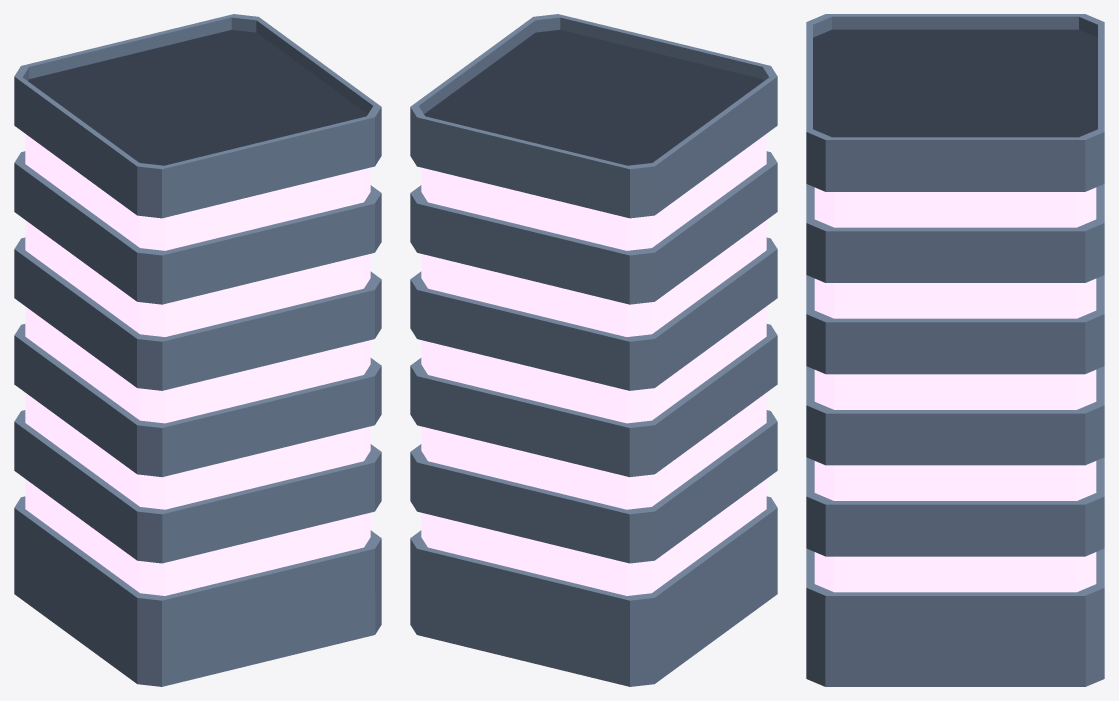
Rendered from building.glb.
3 views of the same model, side by side, from view 1: azimuth 30°, elevation 25°; view 2: azimuth 150°, elevation 25°; view 3: azimuth 270°, elevation 25° (orthographic). The views are drawn at different scales.
Parts seen in each view (by area): view 1: Plane; view 2: Plane; view 3: Plane.
Part boxes in pixels (left/top/right/bottom): Plane: left=14, top=14, right=381, bottom=686; Plane: left=410, top=14, right=777, bottom=686; Plane: left=806, top=14, right=1104, bottom=686.
Bounding box in the file's own units: 37.4 × 75.68 × 37.4.
